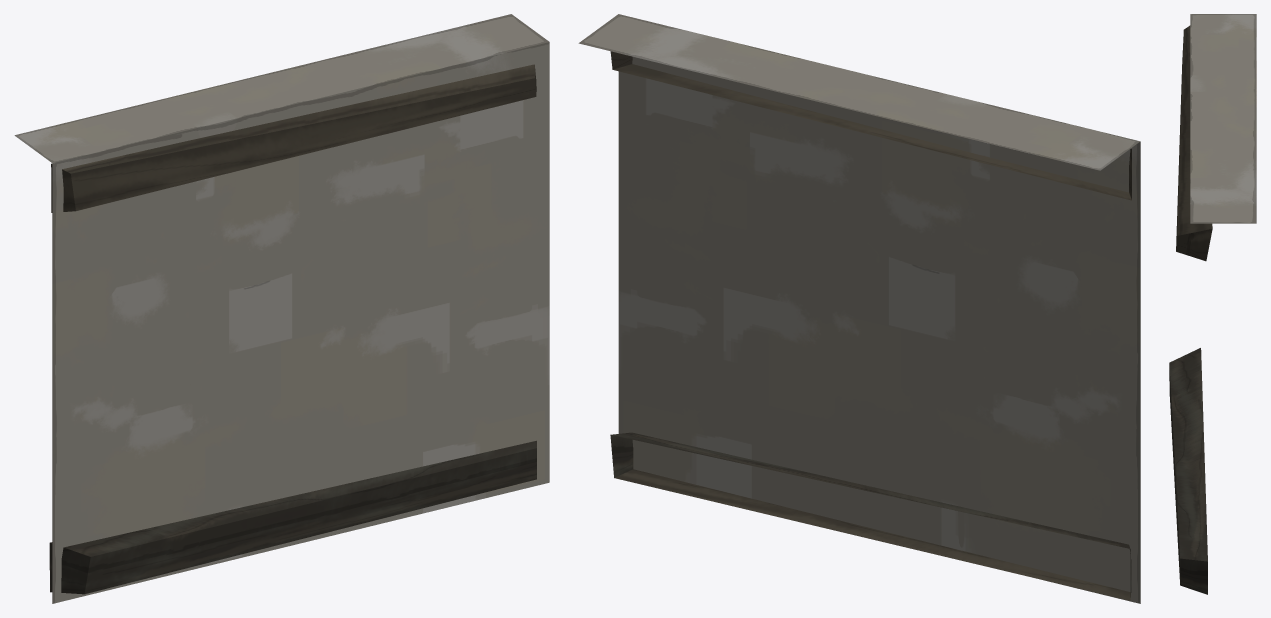
File: childRoom_wall_outer03.fbx
3 renders of one model, left to right at view 1: azimuth 30°, elevation 25°; view 2: azimuth 150°, elevation 25°; view 3: azimuth 270°, elevation 25°, orthographic. The views are drawn at different scales.
Parts seen in each view (by area): view 1: cons_wall_outer03; view 2: cons_wall_outer03; view 3: cons_wall_outer03.
Part boxes in pixels (x1=…): cons_wall_outer03: x1=14, y1=14, x2=549, y2=603; cons_wall_outer03: x1=578, y1=14, x2=1140, y2=603; cons_wall_outer03: x1=1169, y1=14, x2=1256, y2=594.
Size of the model in its own units: 300 by 254 by 52.72.
